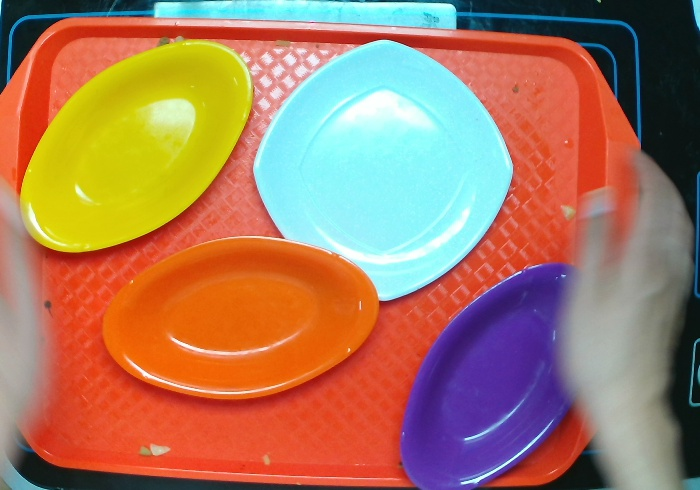RJxy-Fen_Hong_Tuo_Yuan: (398, 260, 584, 490)
RJxy-Huang_Se_Tuo_Yuan: (17, 37, 253, 254)
RJxy-Ju_Huang_Tuo_Yuan: (100, 233, 380, 402)
RJxy-Si_Fang_Die: (251, 37, 516, 303)
